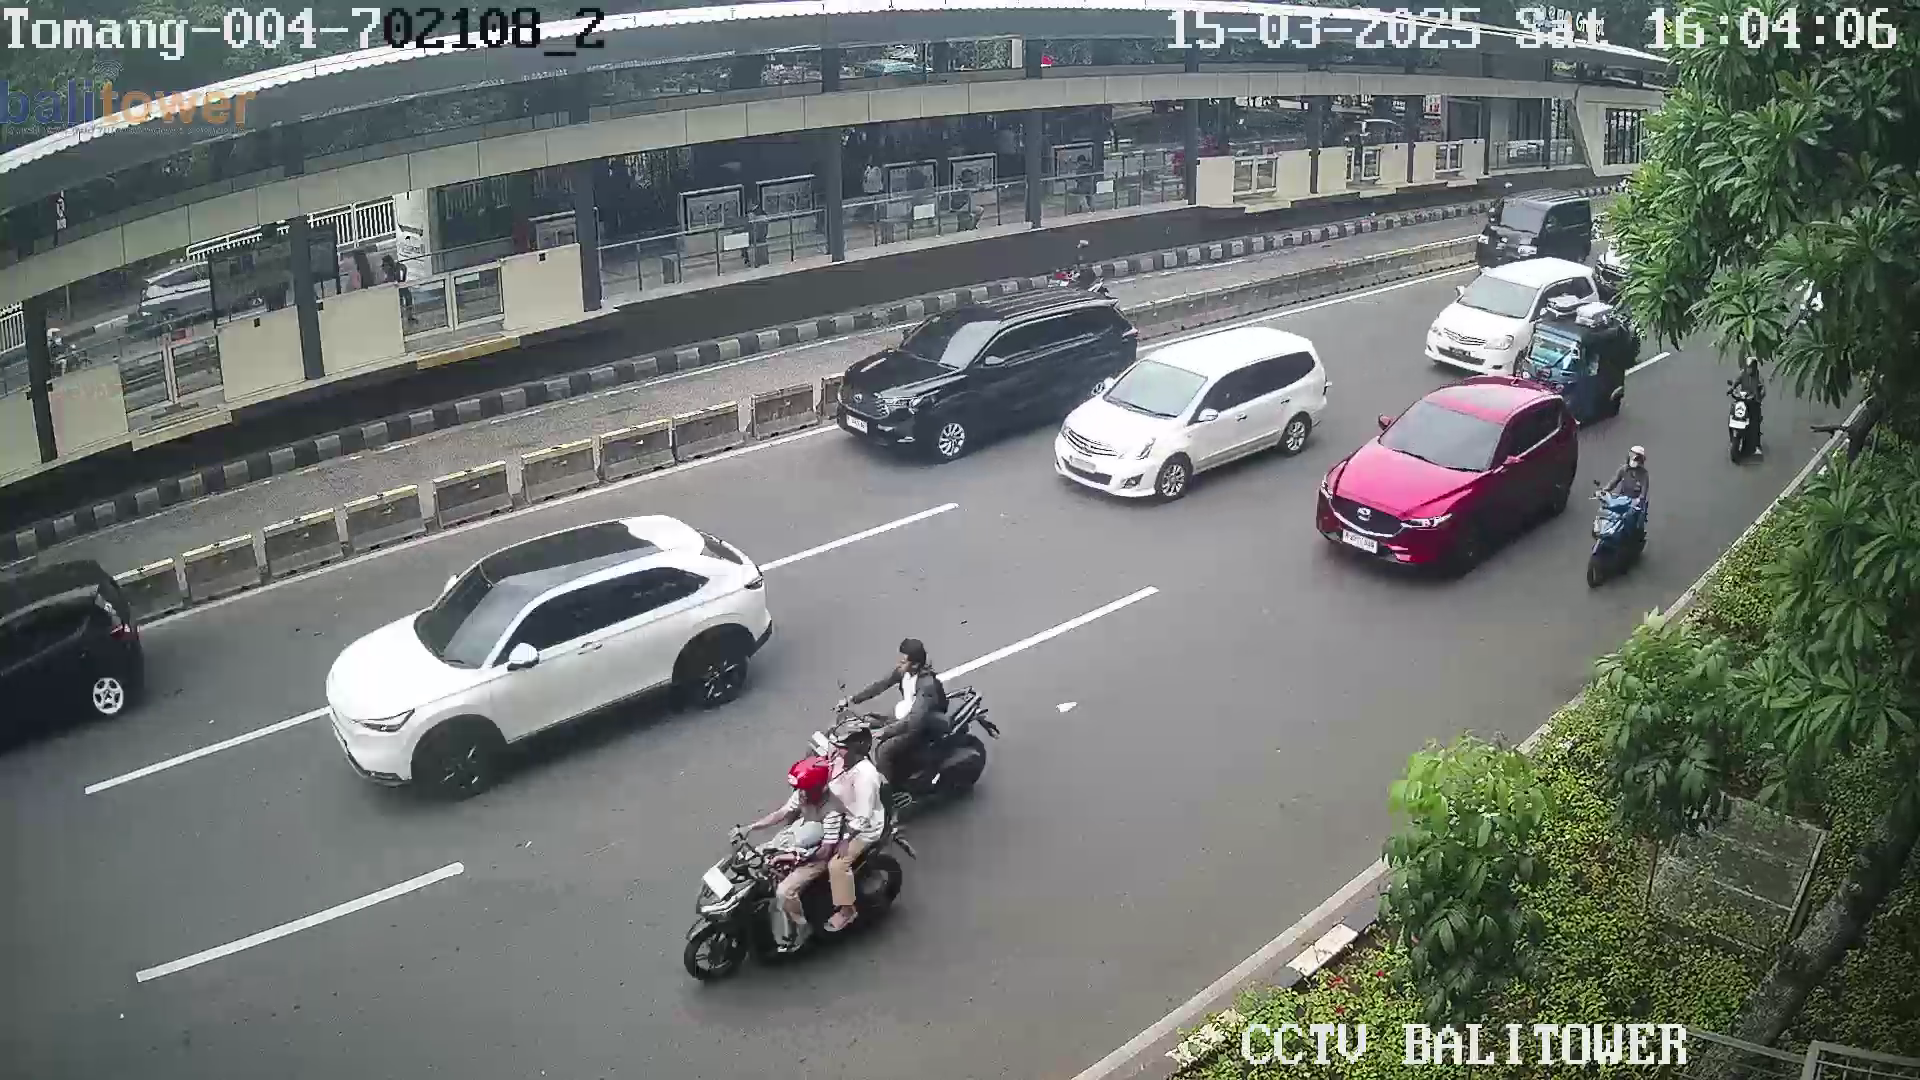half-face helmet: (833, 714, 884, 778), (784, 743, 831, 796), (1625, 443, 1651, 473)
no helmet: (892, 633, 941, 684)
